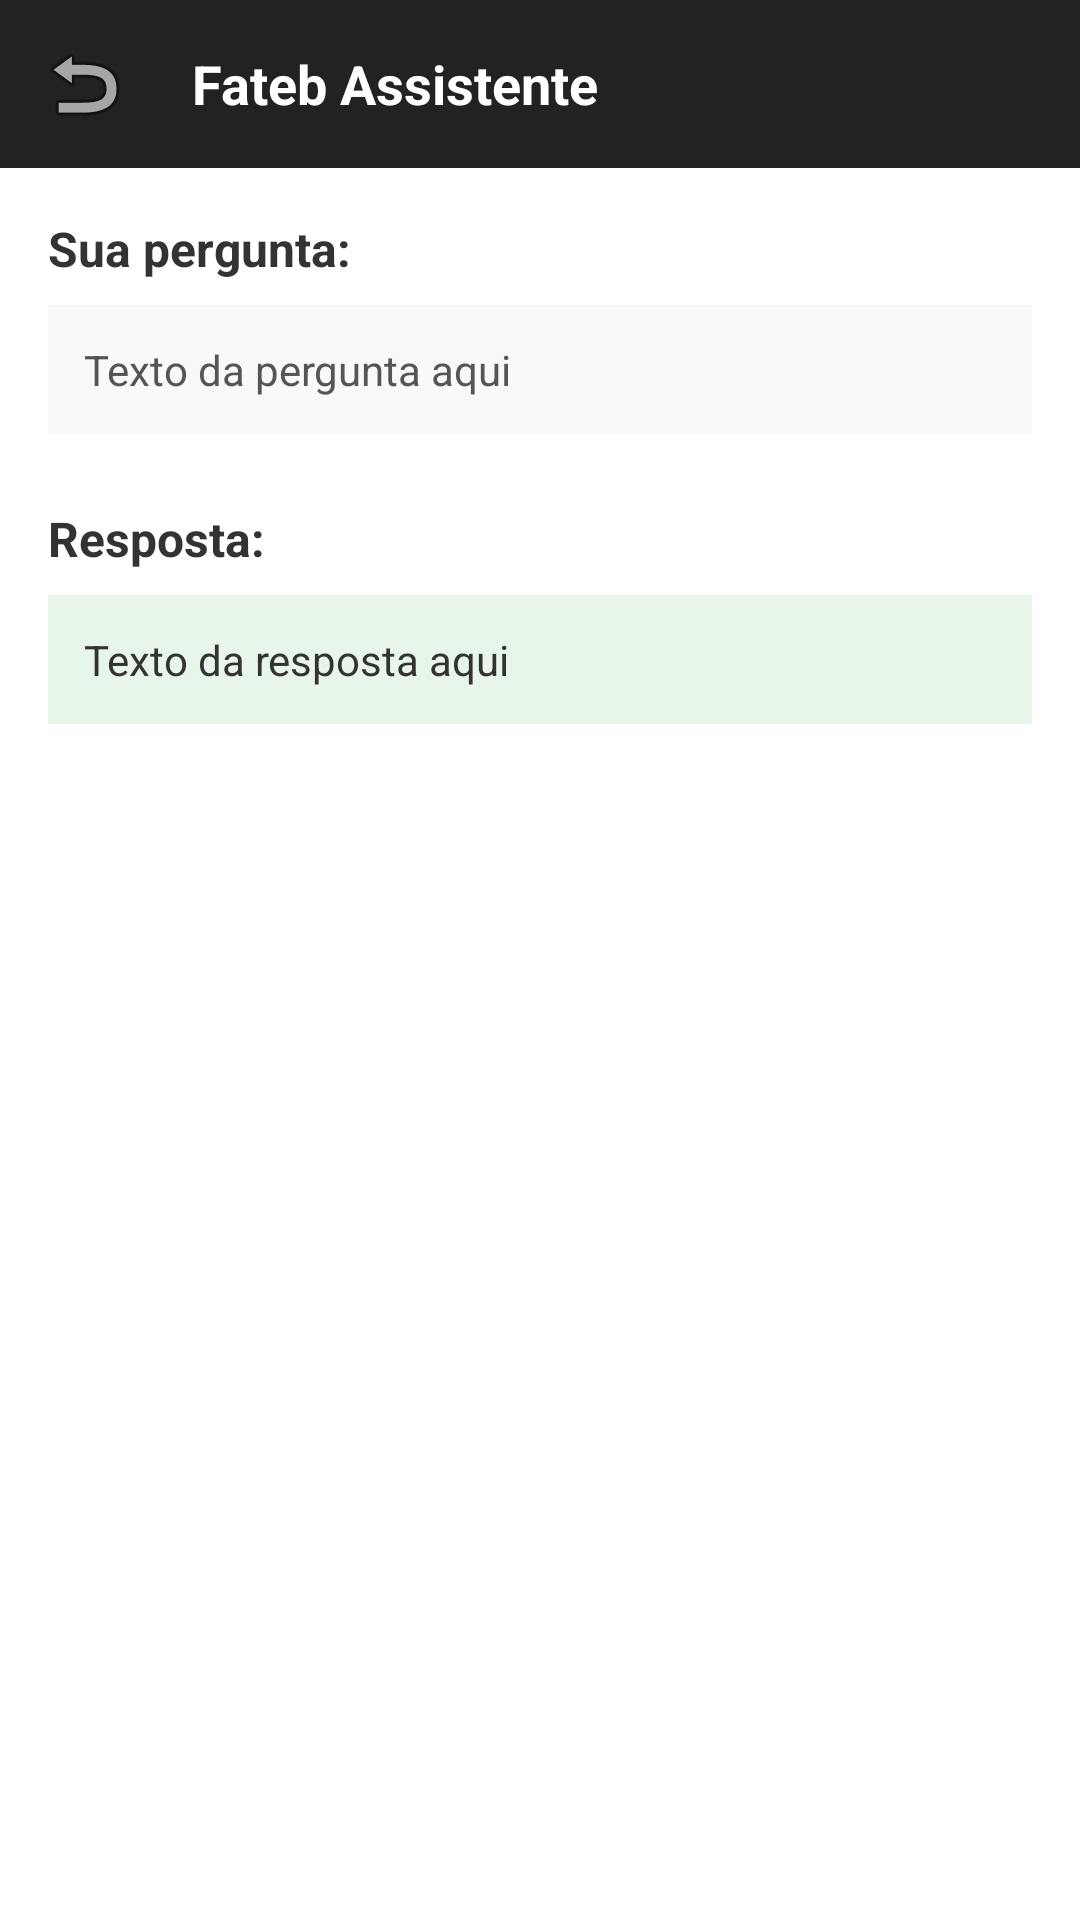

Where icons sit on this 1080×1920 app screen, as (x1, y1, x2, y2):
Voltar: (54, 56, 117, 113)
